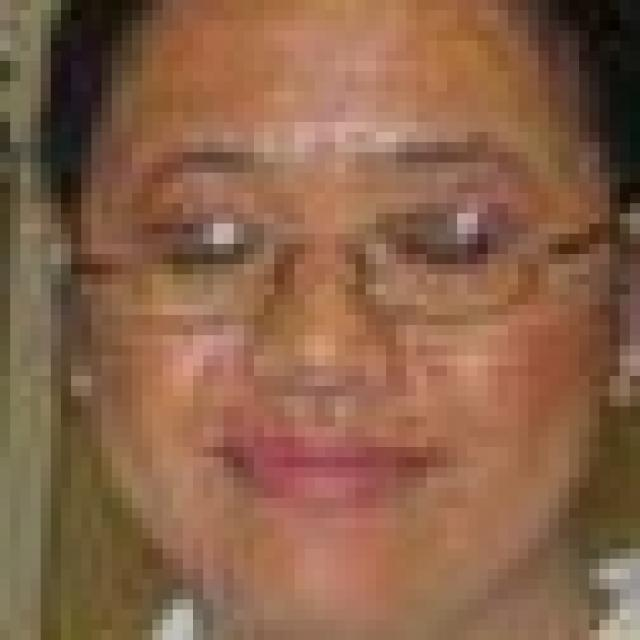Eyeclosed: (386, 212, 488, 276), (167, 224, 260, 271)
